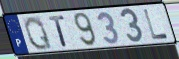3: (119, 6, 145, 46), (96, 10, 120, 46)
9: (72, 12, 98, 48)
L: (142, 8, 170, 41)
Q: (23, 15, 54, 52)
T: (47, 14, 69, 48)
